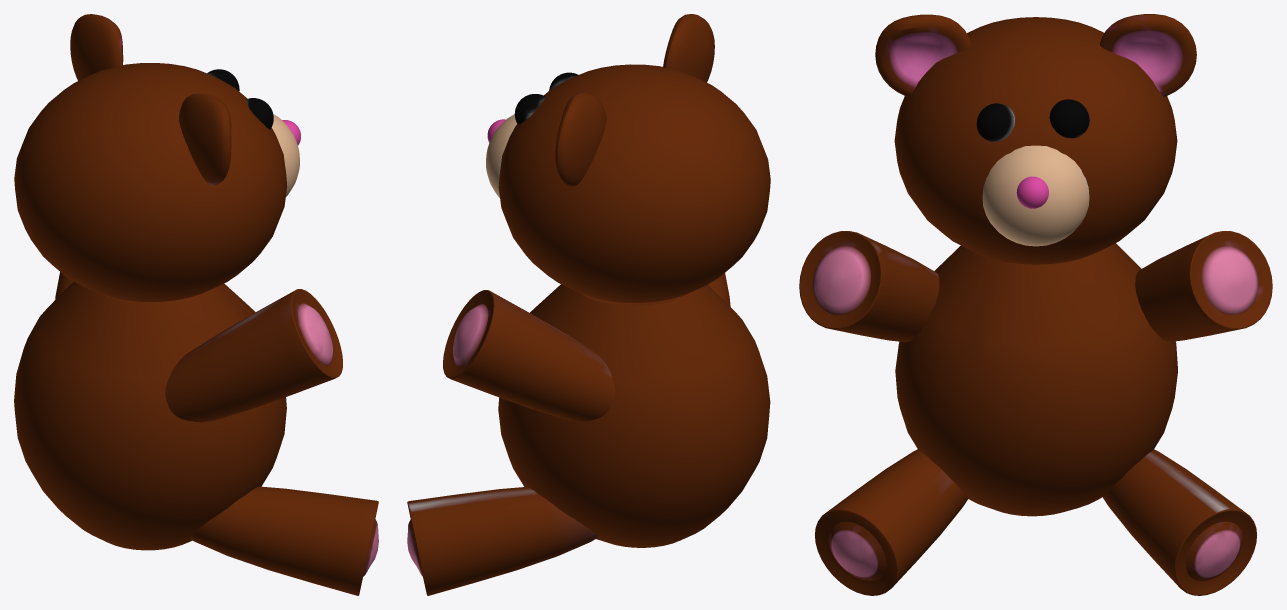
File: teddy_bear.fbx
3 views of the same model, side by side, from view 1: azimuth 30°, elevation 25°; view 2: azimuth 150°, elevation 25°; view 3: azimuth 270°, elevation 25° (orthographic). The views are drawn at different scales.
Parts seen in each view (by area): view 1: Sphere.007; view 2: Sphere.007; view 3: Sphere.007.
Part boxes in pixels (box(x1,y1,x2,y2)): Sphere.007: box(14, 14, 378, 595); Sphere.007: box(407, 14, 770, 595); Sphere.007: box(799, 14, 1272, 595).
Bounding box in the file's own units: 232 × 405 × 335.
